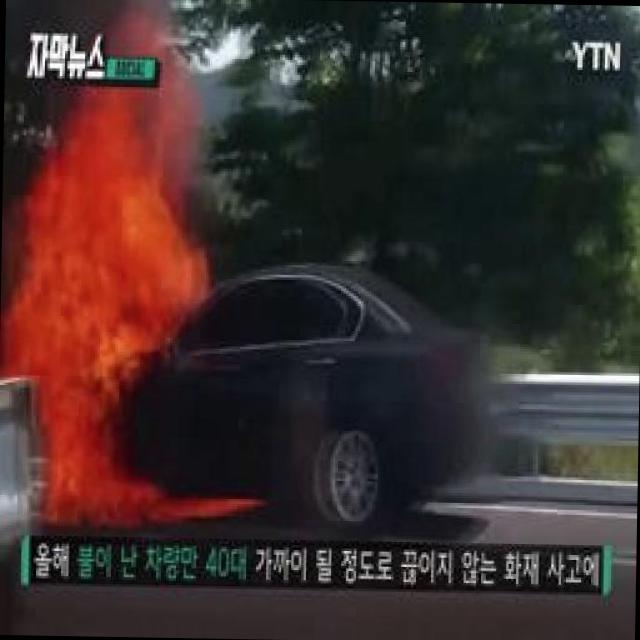Fire: (18, 114, 178, 528)
